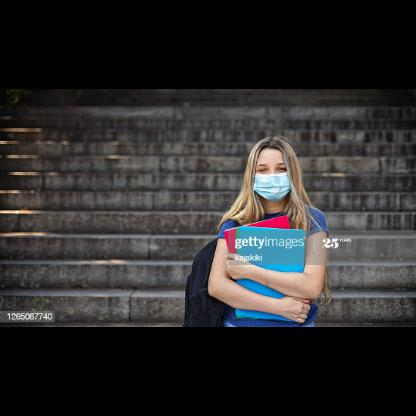Surgical Mask: (252, 150, 300, 204)
